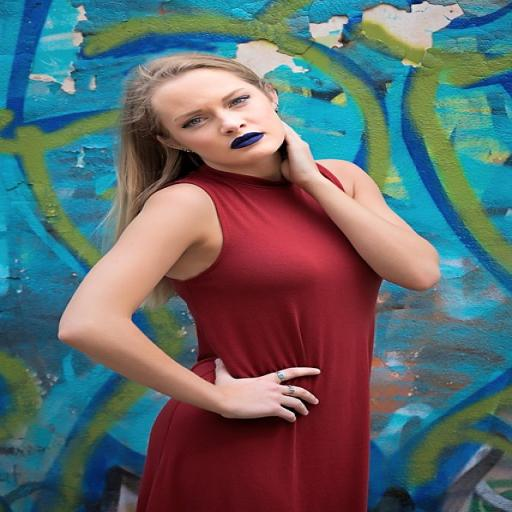lipstick: (231, 132, 263, 148)
